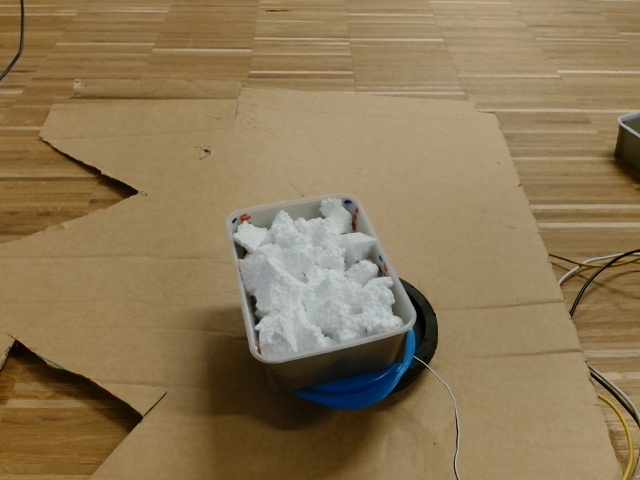Small_threequarter: (226, 192, 420, 362)
